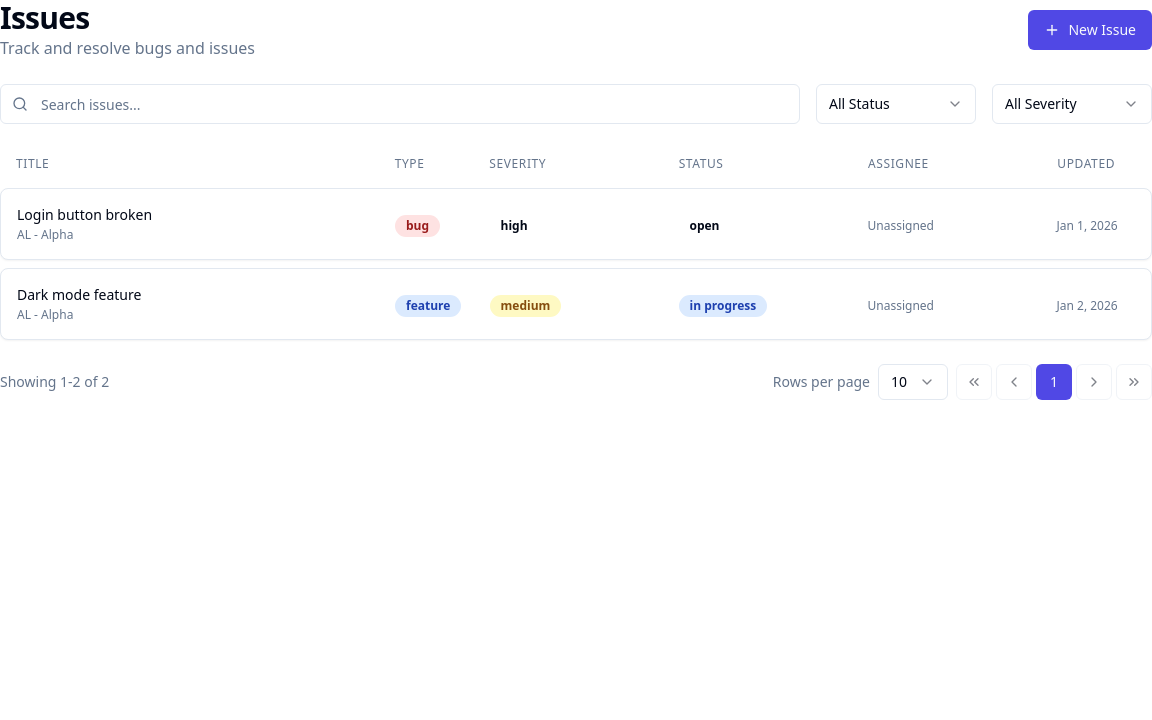
it: IssuesPage › should open create issue dialog on New Issue click
This screenshot has width=1152, height=720.
Expected: the heading "Login button broken" is shown, [17, 205, 152, 224]
Click the button "New Issue". click: (1090, 30)
box: [1028, 10, 1151, 50]
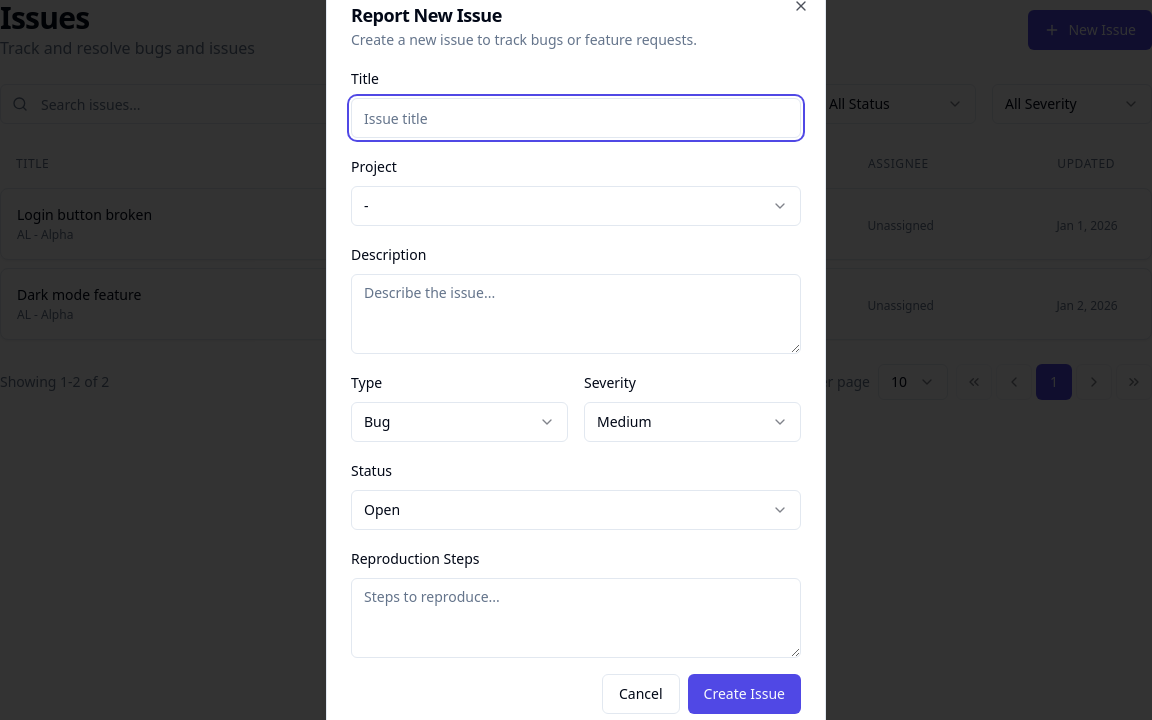
Now the heading "Report New Issue" is shown, box [351, 3, 502, 27]
Now the button "Create Issue" is shown, box [688, 674, 801, 714]
